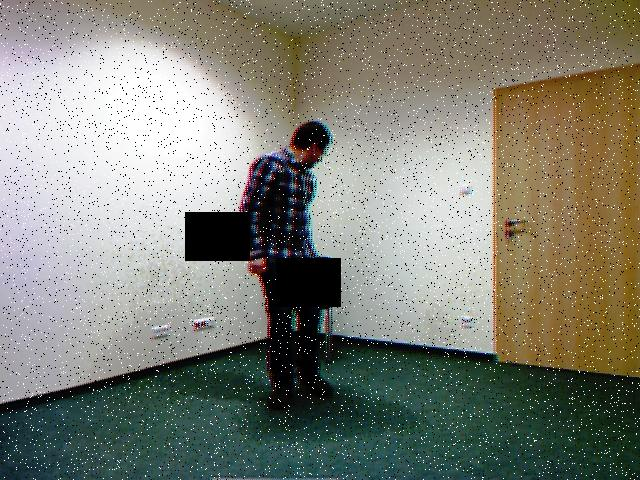walking: (232, 98, 353, 431)
